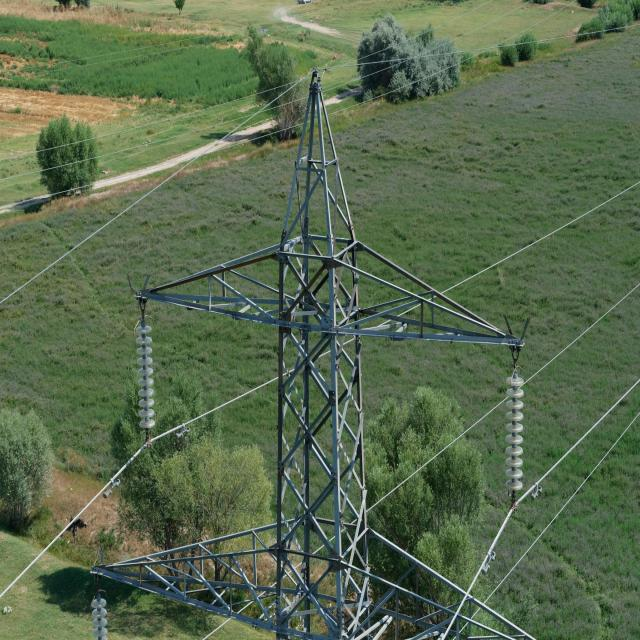voltage_line: (149, 81, 531, 640)
